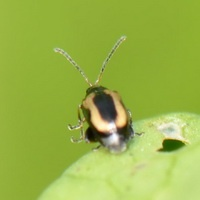insect: (54, 36, 133, 152)
